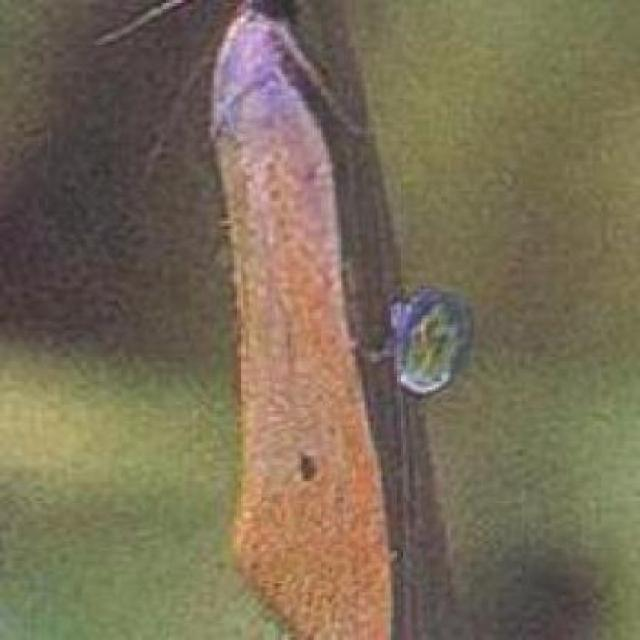stem-borer: (194, 0, 386, 640)
